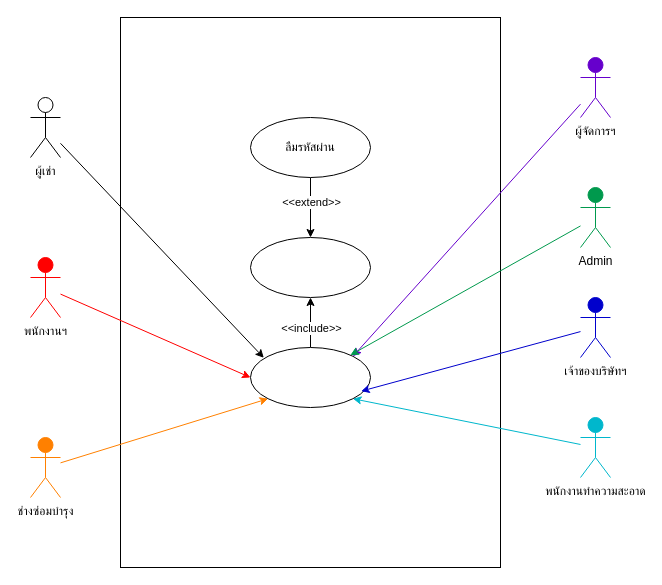
Image size: 662x585. Some labels were removed from this diagram. The box of each missing label's shape, as (x1, y1, x2, y2) in pixels:
กรอก Username , Password: (250, 236, 370, 298)
เข้าสู่ระบบ: (250, 346, 370, 408)
